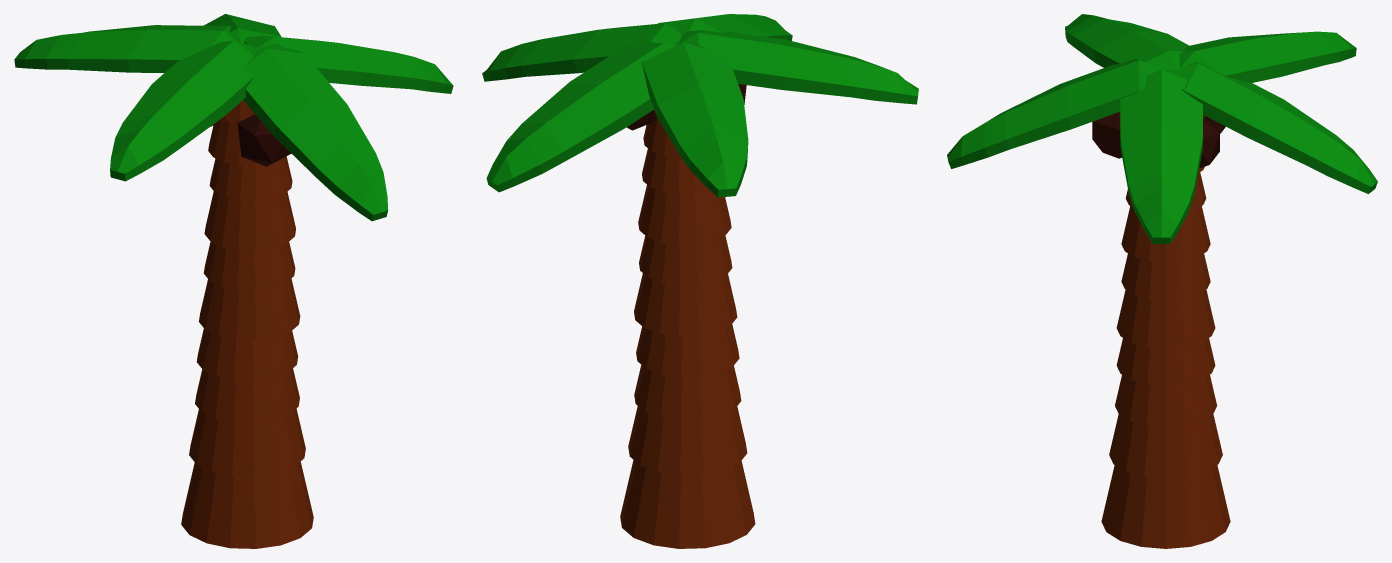
File: palmboom2.fbx
3 views of the same model, side by side, from view 1: azimuth 30°, elevation 25°; view 2: azimuth 150°, elevation 25°; view 3: azimuth 270°, elevation 25° (orthographic). The views are drawn at different scales.
Visible parts, largest first — view 1: Cylinder; view 2: Cylinder; view 3: Cylinder.
Part boxes in pixels (<box>): Cylinder: <box>14,14,453,548</box>; Cylinder: <box>482,14,918,548</box>; Cylinder: <box>947,14,1377,548</box>.
Bounding box in the file's own units: 2.77 × 3.35 × 2.81.
